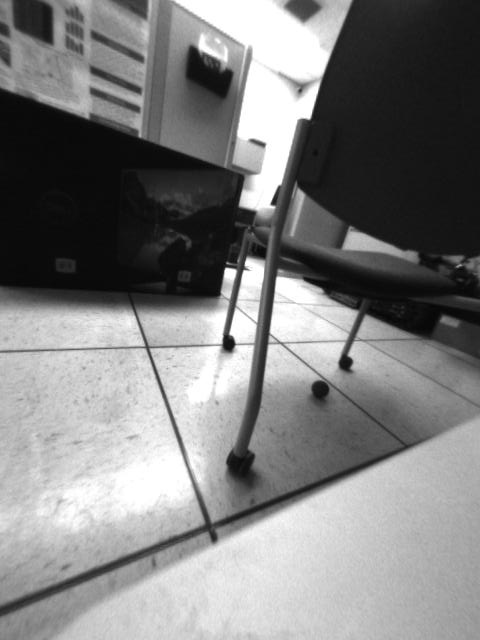dogtoy: (304, 372, 338, 406)
